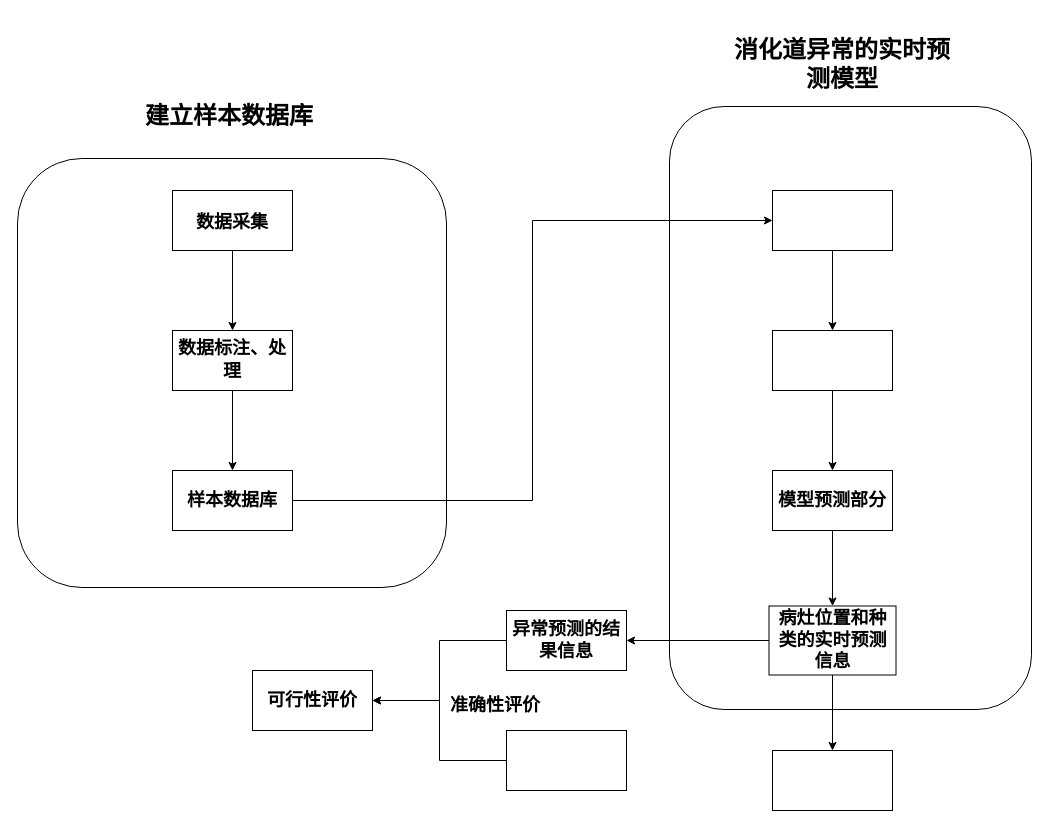
This 1049x828 diagram has some shape labels left out. The shapes that lost their labels are listed below. From the top down, each one's centre as x and y in pixels, then its label:
the point at 832,220: 模型主干特征提取部分
the point at 832,360: 模型特征融合部分
the point at 566,760: 医生诊断结果
the point at 832,780: 可视化输出
